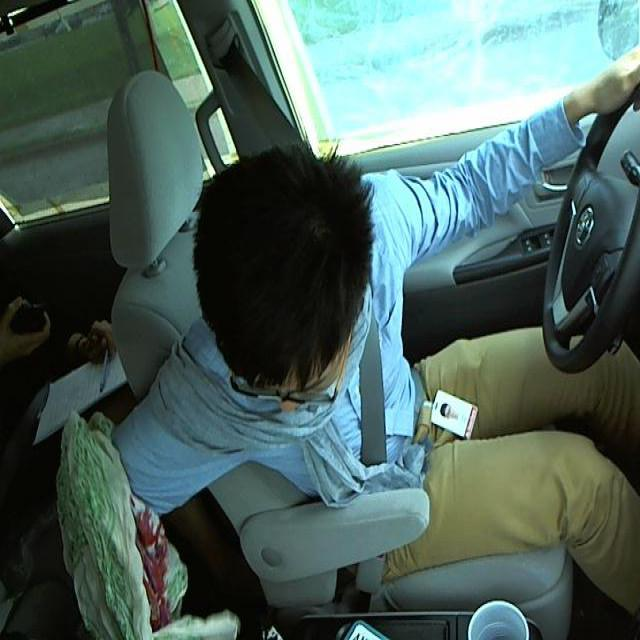seatbelt: (358, 336, 403, 497)
